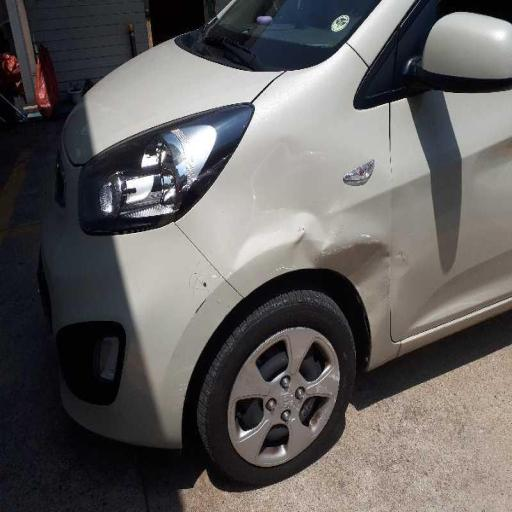broken: (243, 134, 410, 308)
